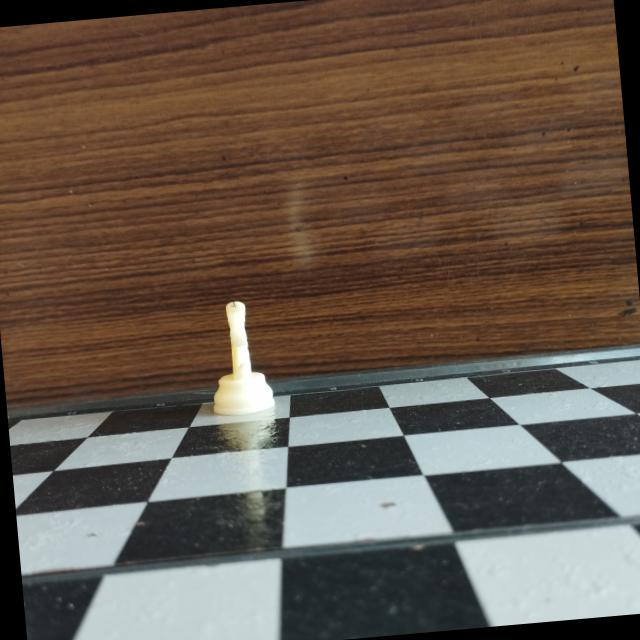White Knight: (192, 290, 292, 426)
